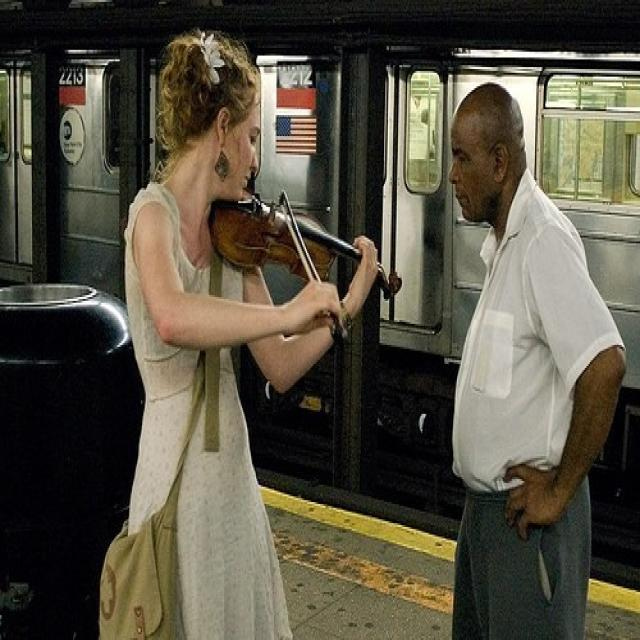violin: (208, 178, 402, 304)
